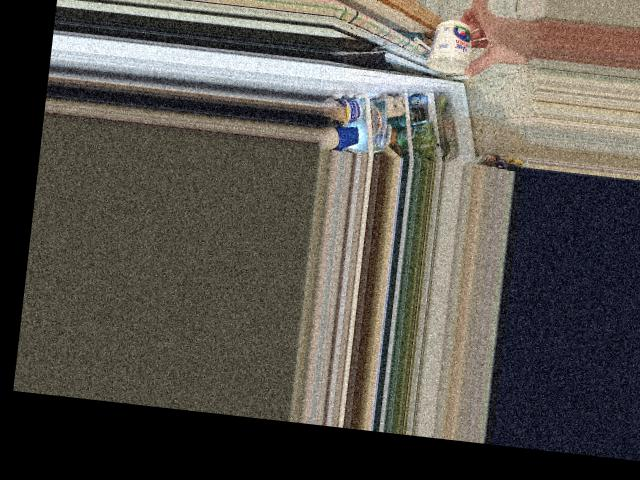cotage: (428, 17, 478, 72)
